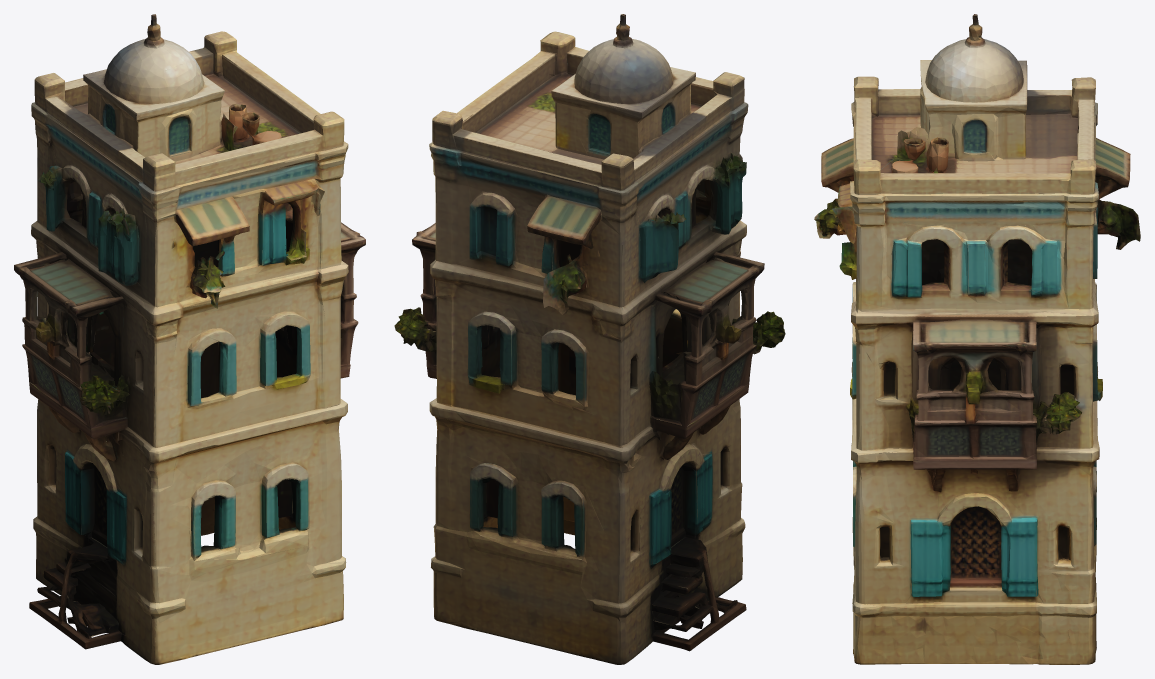
Rendered from r3_arab_tall_narrow.glb.
3 renders of one model, left to right at view 1: azimuth 30°, elevation 25°; view 2: azimuth 150°, elevation 25°; view 3: azimuth 270°, elevation 25°, orthographic.
Visible parts, largest first — view 1: world; view 2: world; view 3: world.
Boxes of the visible parts, x1=… form: world: x1=14, y1=14, x2=365, y2=664; world: x1=394, y1=14, x2=785, y2=664; world: x1=814, y1=14, x2=1140, y2=664.
Size of the model in its own units: 0.5402 by 1 by 0.5046.
Materials: 1 (1 with a texture image).
